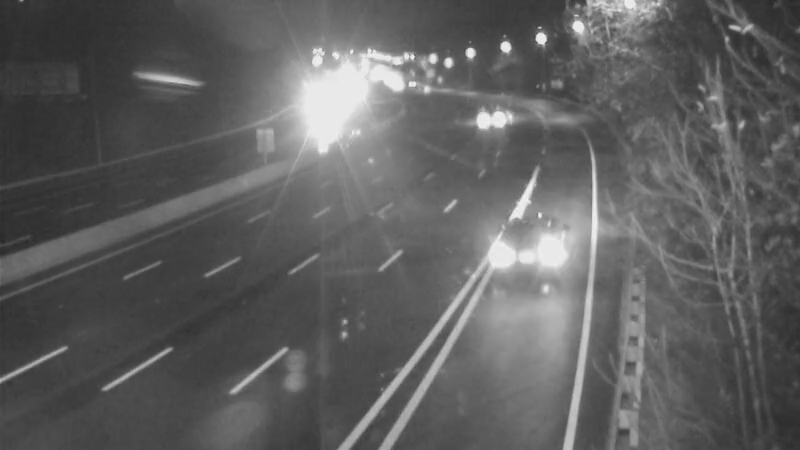vehicle: (495, 205, 575, 285), (396, 64, 446, 114), (452, 91, 502, 141)
